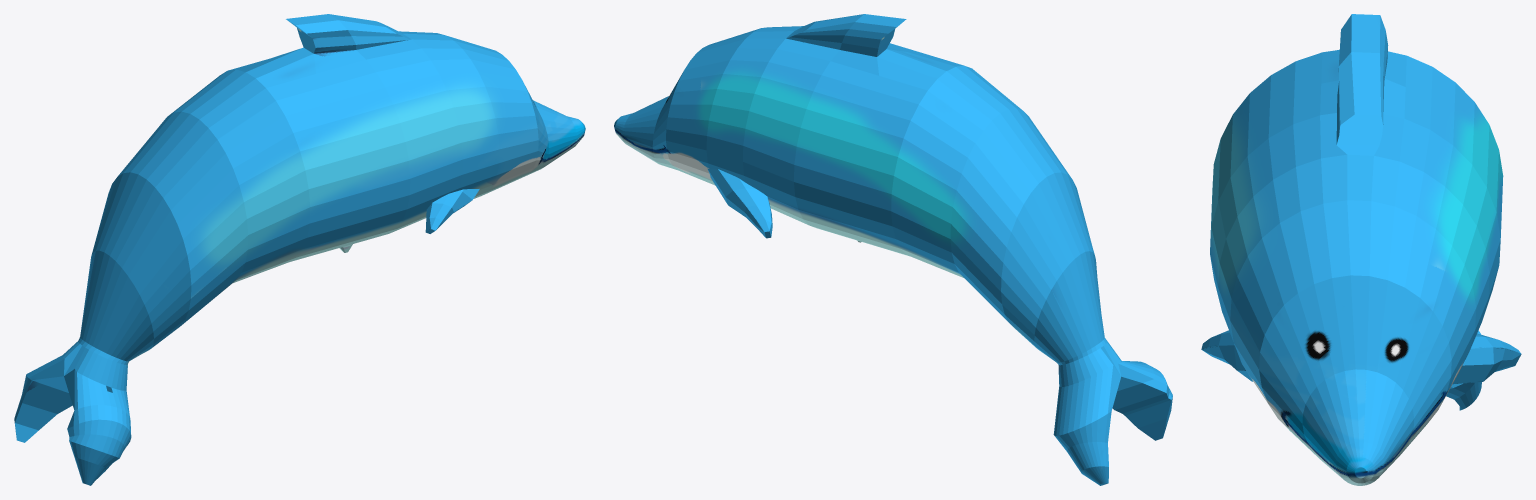
Rendered from DaulphinFinale.fbx.
The picture shows the model from 3 angles, left to right: view 1: azimuth 30°, elevation 25°; view 2: azimuth 150°, elevation 25°; view 3: azimuth 270°, elevation 25°; orthographic projection. The views are drawn at different scales.
Parts seen in each view (by area): view 1: Cylinder.002; view 2: Cylinder.002; view 3: Cylinder.002.
Boxes of the visible parts, x1=… form: Cylinder.002: x1=14, y1=14, x2=585, y2=485; Cylinder.002: x1=614, y1=14, x2=1172, y2=485; Cylinder.002: x1=1201, y1=14, x2=1521, y2=485.
Size of the model in its own units: 525 by 362 by 187.
Materials: 3 (3 with a texture image).
